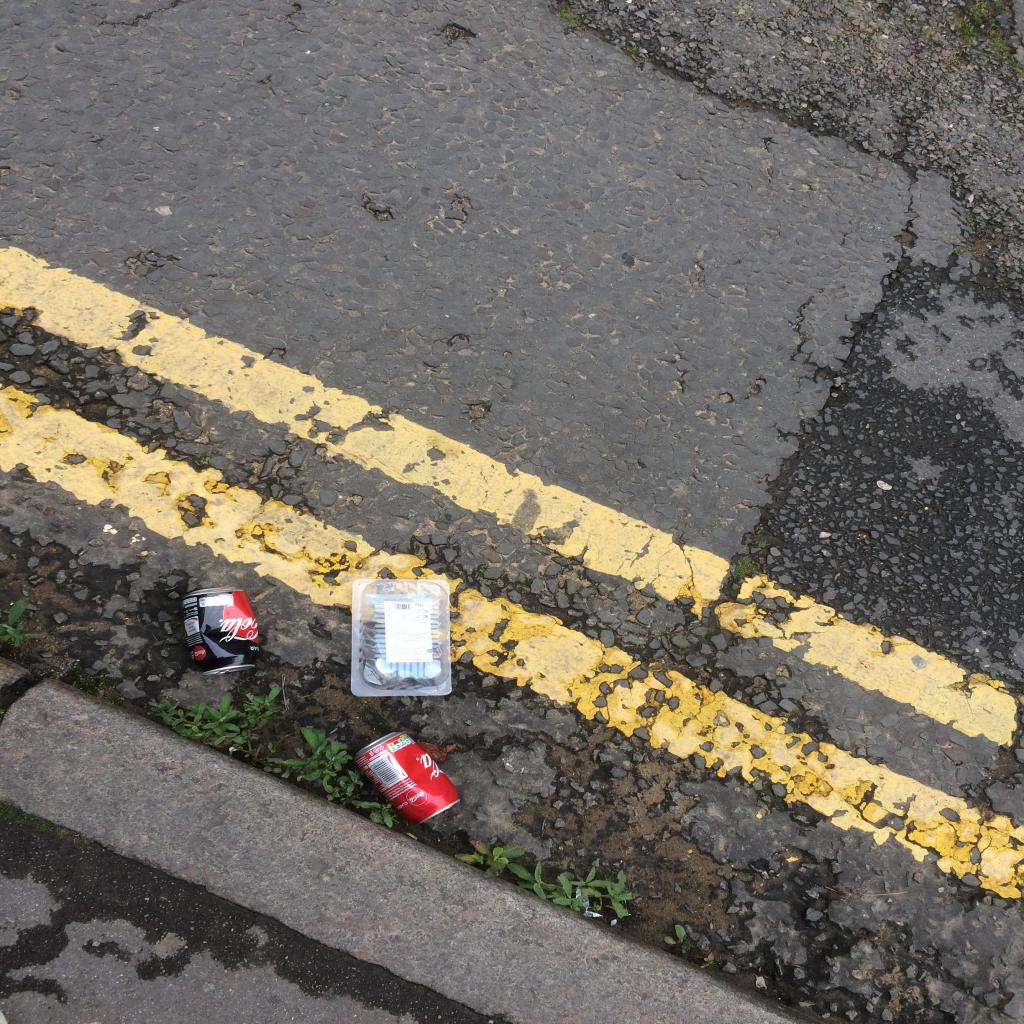Disposable food container: (351, 579, 452, 696)
Drink can: (353, 732, 461, 824), (182, 587, 260, 675)
